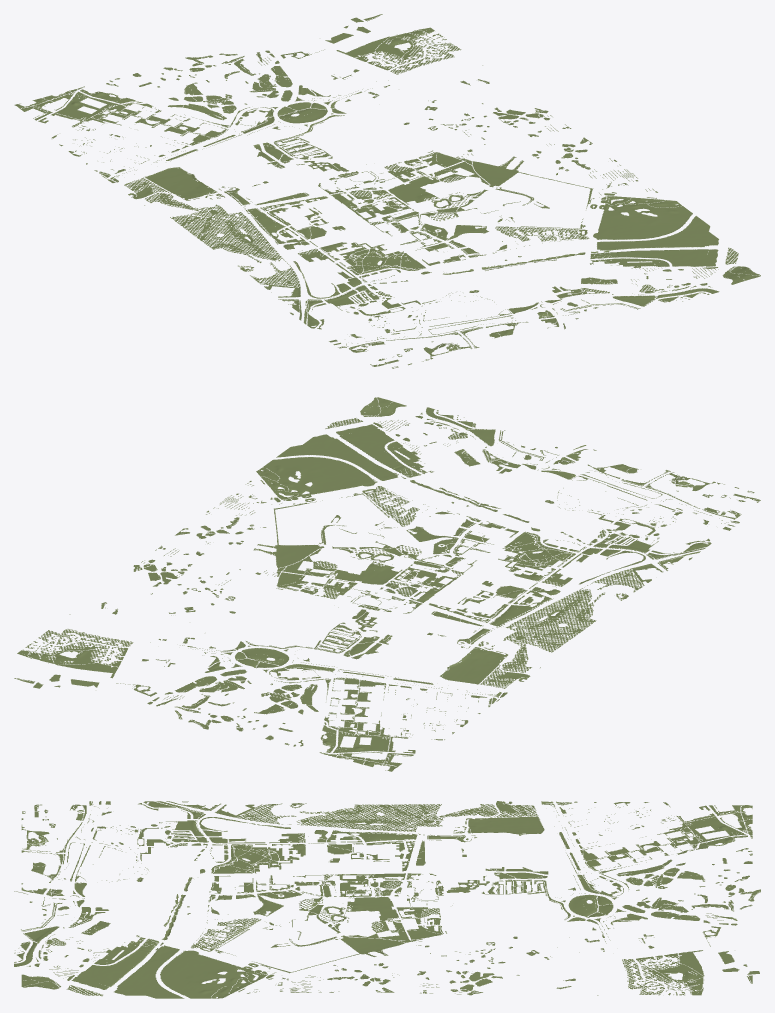
The model's file is corson_markvegetation.glb.
3 views of the same model, one above another, from view 1: azimuth 30°, elevation 25°; view 2: azimuth 150°, elevation 25°; view 3: azimuth 270°, elevation 25° (orthographic). The views are drawn at different scales.
Parts seen in each view (by area): view 1: Markvegetation_0_5, Markvegetation_5_8, Markvegetation_6_8, Markvegetation_5_9, Markvegetation_0_3, Markvegetation_3_5, Markvegetation_6_9, Markvegetation_4_5, Markvegetation_3_2, Markvegetation_5_1, Markvegetation_1_5, Markvegetation_1_7 (+21 smaller); view 2: Markvegetation_5_8, Markvegetation_0_5, Markvegetation_6_8, Markvegetation_0_3, Markvegetation_5_9, Markvegetation_3_5, Markvegetation_4_5, Markvegetation_6_9, Markvegetation_5_1, Markvegetation_3_2, Markvegetation_0_4, Markvegetation_1_7 (+21 smaller); view 3: Markvegetation_0_5, Markvegetation_5_8, Markvegetation_6_8, Markvegetation_0_3, Markvegetation_5_9, Markvegetation_3_5, Markvegetation_4_5, Markvegetation_6_9, Markvegetation_1_7, Markvegetation_3_2, Markvegetation_5_1, Markvegetation_1_5 (+39 smaller).
Boxes of the visible parts, x1,y1,x2,y2 form: Markvegetation_0_5: (181,213,265,249); Markvegetation_5_8: (573,216,665,255); Markvegetation_6_8: (633,205,710,241); Markvegetation_5_9: (607,241,699,278); Markvegetation_0_3: (108,168,198,200); Markvegetation_3_5: (354,169,435,208); Markvegetation_6_9: (666,231,738,266); Markvegetation_4_5: (411,158,503,183); Markvegetation_3_2: (250,97,336,129); Markvegetation_5_1: (345,41,424,73); Markvegetation_1_5: (235,198,326,236); Markvegetation_1_7: (309,248,389,287); Markvegetation_5_8: (311,455,406,495); Markvegetation_0_5: (511,606,596,644); Markvegetation_6_8: (260,445,344,480); Markvegetation_0_3: (445,657,529,697); Markvegetation_5_9: (346,430,435,470); Markvegetation_3_5: (327,563,422,600); Markvegetation_4_5: (273,546,347,587); Markvegetation_6_9: (302,421,379,455); Markvegetation_5_1: (65,636,147,673); Markvegetation_3_2: (229,643,309,679); Markvegetation_0_4: (475,632,562,670); Markvegetation_1_7: (518,544,613,578); Markvegetation_0_5: (351,804,419,829); Markvegetation_5_8: (147,945,215,974); Markvegetation_6_8: (147,974,215,998); Markvegetation_0_3: (487,801,555,830); Markvegetation_5_9: (78,946,146,974); Markvegetation_3_5: (351,886,419,916); Markvegetation_4_5: (351,916,419,945); Markvegetation_6_9: (78,975,146,996); Markvegetation_1_7: (214,830,283,859); Markvegetation_3_2: (556,888,623,917); Markvegetation_5_1: (623,946,692,974); Markvegetation_1_5: (351,829,419,858).
Bounding box in the file's own units: 1710 × 22.04 × 2740.
